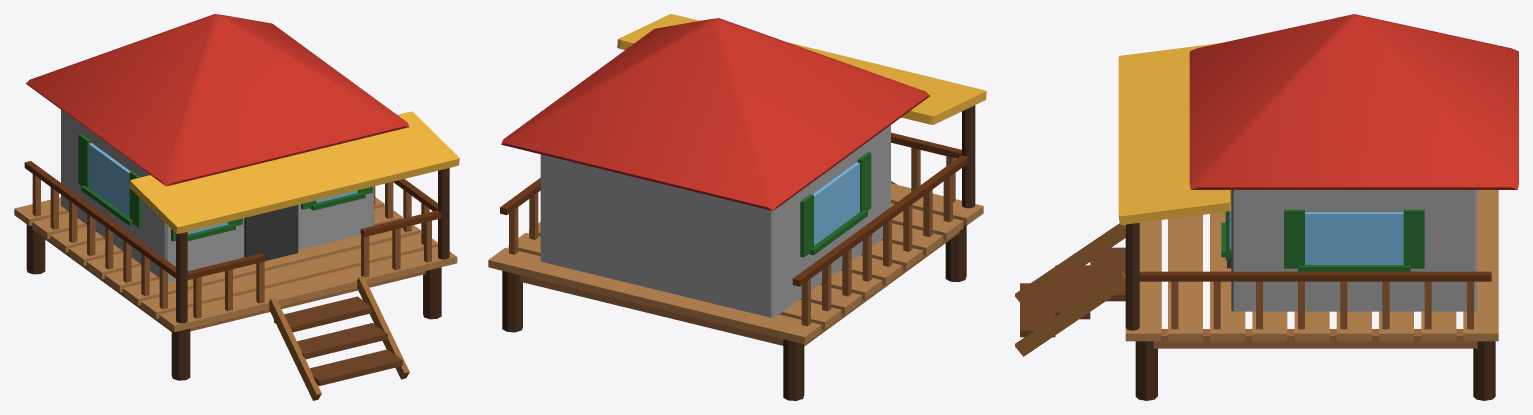
Rendered from BungalowLvl3.fbx.
3 renders of one model, left to right at view 1: azimuth 30°, elevation 25°; view 2: azimuth 150°, elevation 25°; view 3: azimuth 270°, elevation 25°, orthographic. The views are drawn at different scales.
Visible parts, largest first — view 1: Cube; view 2: Cube; view 3: Cube.
Part boxes in pixels (<box>): Cube: <box>14,14,459,400</box>; Cube: <box>488,14,986,400</box>; Cube: <box>1015,14,1518,400</box>.
Bounding box in the file's own units: 2.7 × 2.46 × 3.58.
1 material, 1 textured.
